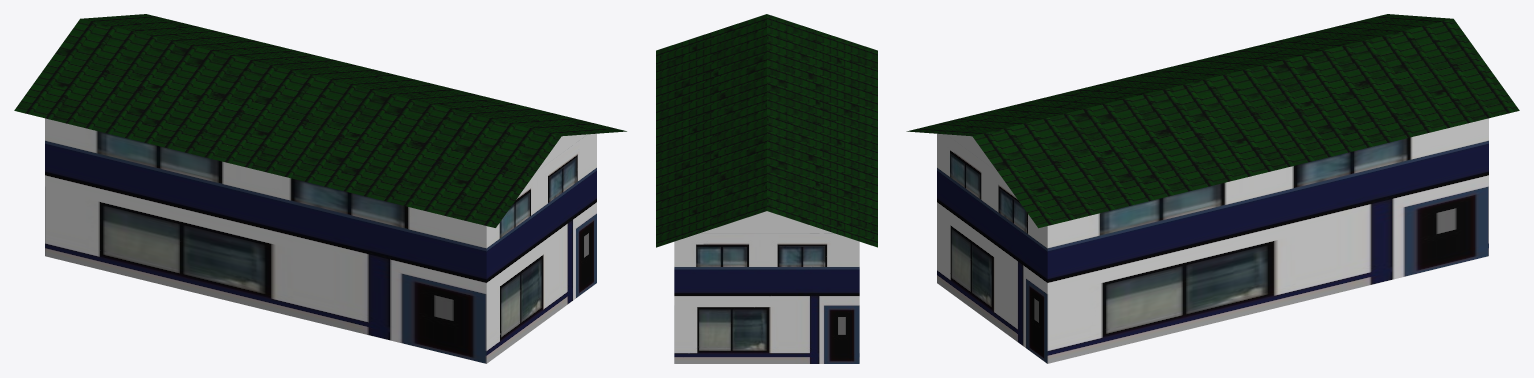
The picture shows the model from 3 angles, left to right: view 1: azimuth 30°, elevation 25°; view 2: azimuth 150°, elevation 25°; view 3: azimuth 270°, elevation 25°; orthographic projection. The views are drawn at different scales.
Visible parts, largest first — view 1: CityEngineMaterial_2_m, CityEngineMaterial_13_m; view 2: CityEngineMaterial_13_m, CityEngineMaterial_2_m, CityEngineMaterial_3_m; view 3: CityEngineMaterial_2_m, CityEngineMaterial_13_m.
Boxes of the visible parts, <box> form: CityEngineMaterial_2_m: <box>45,118,596,363</box>; CityEngineMaterial_13_m: <box>14,14,626,227</box>; CityEngineMaterial_13_m: <box>656,14,877,247</box>; CityEngineMaterial_2_m: <box>674,233,859,363</box>; CityEngineMaterial_3_m: <box>700,211,833,233</box>; CityEngineMaterial_2_m: <box>937,118,1488,363</box>; CityEngineMaterial_13_m: <box>906,14,1519,228</box>.
Size of the model in its own units: 22.04 by 9.21 by 26.67.
